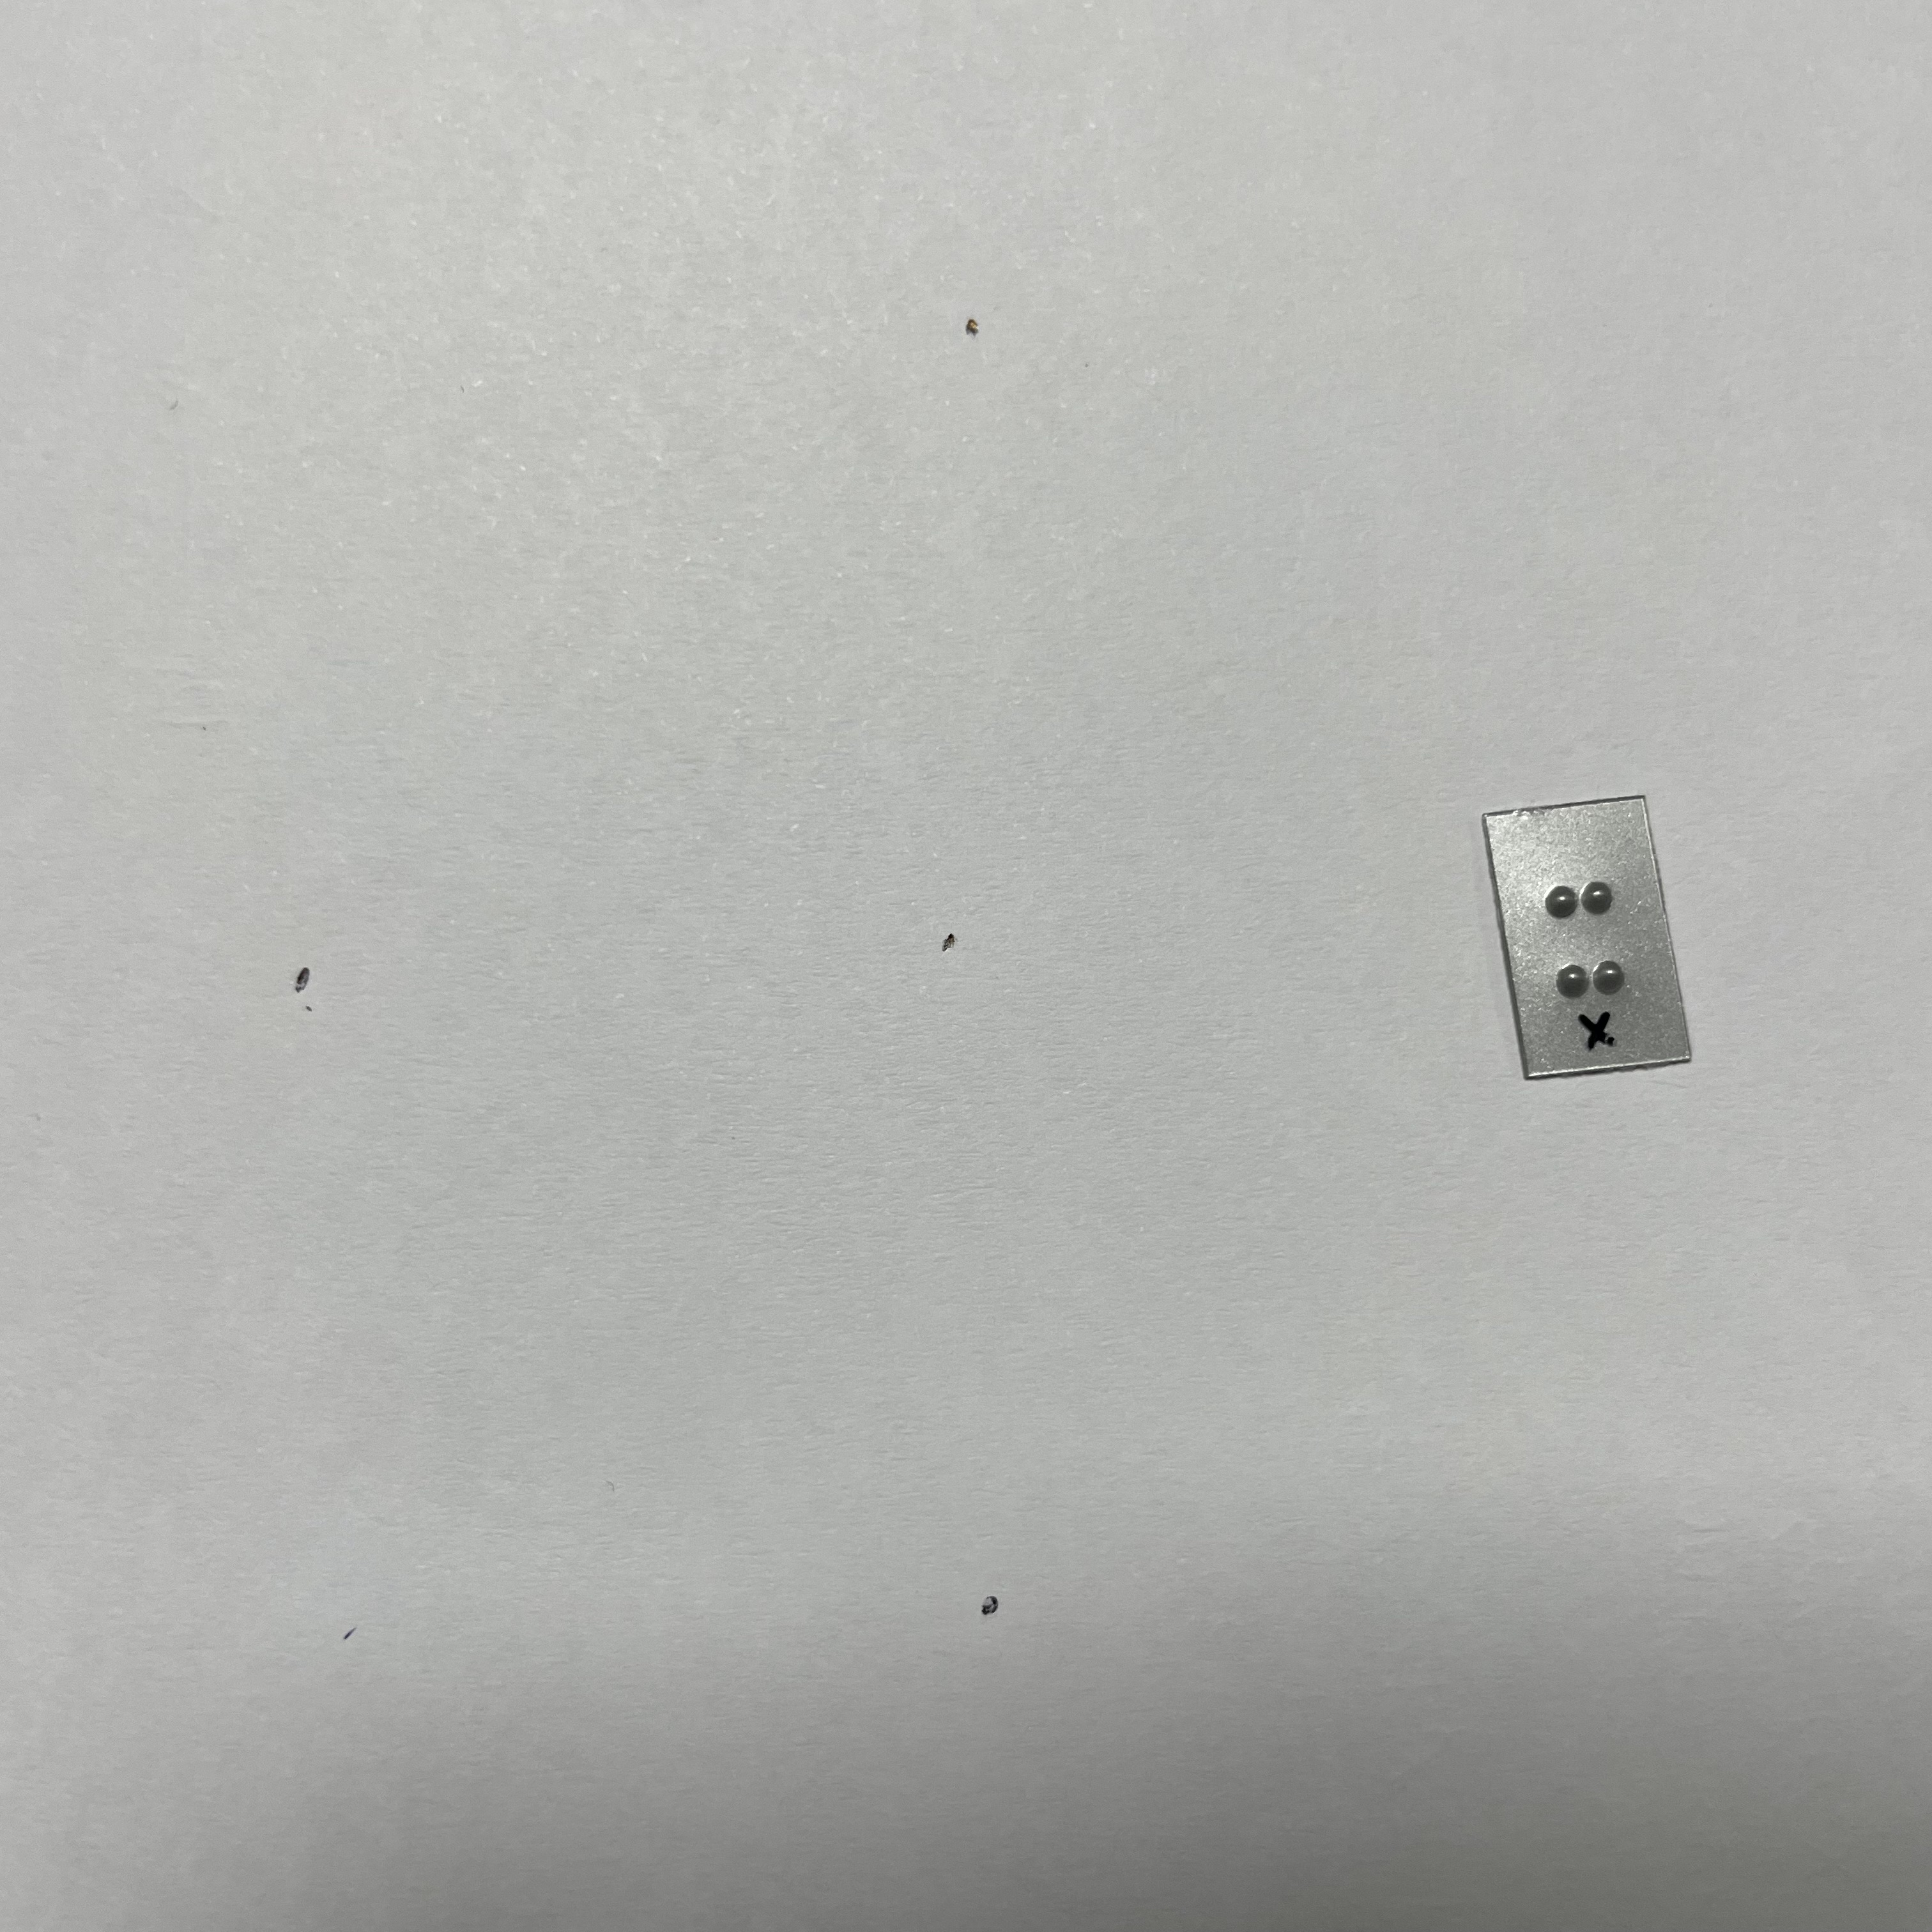x: (1538, 876, 1640, 1008)
